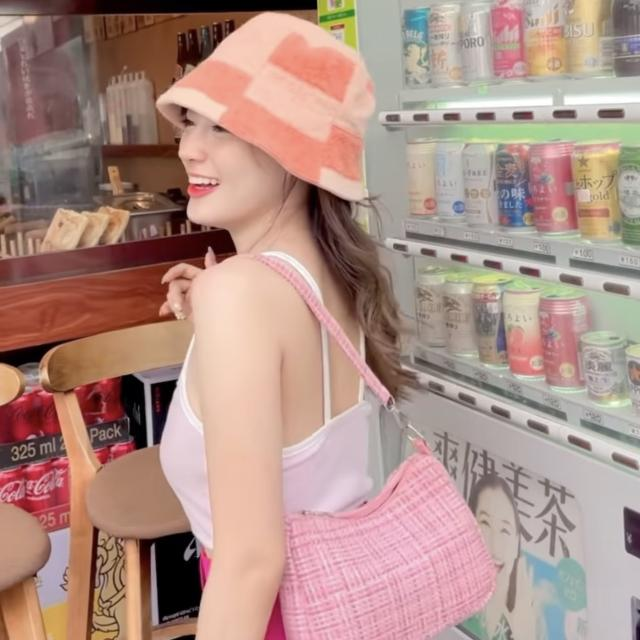handbag: (244, 420, 505, 640)
